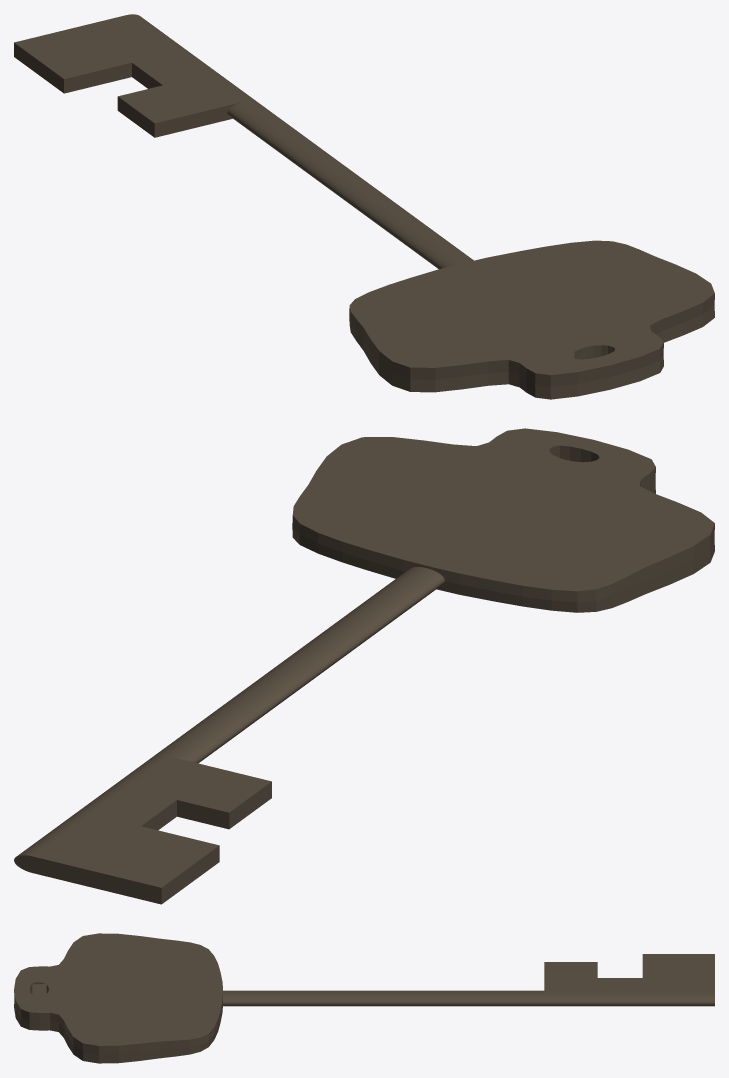
The model's file is Key (1).fbx.
The picture shows the model from 3 angles, top to bottom: view 1: azimuth 30°, elevation 25°; view 2: azimuth 150°, elevation 25°; view 3: azimuth 270°, elevation 25°; orthographic projection. The views are drawn at different scales.
Parts seen in each view (by area): view 1: Cube; view 2: Cube; view 3: Cube.
Part boxes in pixels (x1,y1,x2,y2): Cube: [14, 14, 714, 399]; Cube: [14, 428, 714, 904]; Cube: [14, 933, 714, 1063].
Bounding box in the file's own units: 174 × 13.16 × 459.
